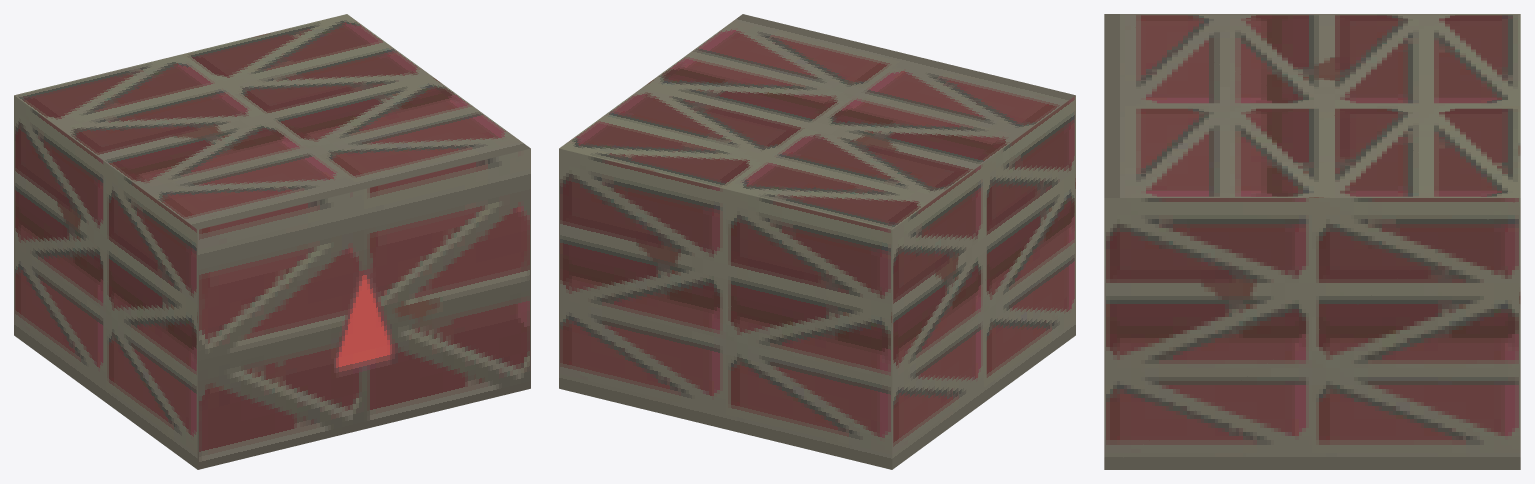
Rendered from Building_AncientExplosivesCrate.glb.
3 renders of one model, left to right at view 1: azimuth 30°, elevation 25°; view 2: azimuth 150°, elevation 25°; view 3: azimuth 270°, elevation 25°, orthographic. The views are drawn at different scales.
Visible parts, largest first — view 1: AncientExplosivesCrate; view 2: AncientExplosivesCrate; view 3: AncientExplosivesCrate.
Part boxes in pixels (left/top/right/bottom): AncientExplosivesCrate: left=14, top=14, right=530, bottom=469; AncientExplosivesCrate: left=559, top=14, right=1075, bottom=469; AncientExplosivesCrate: left=1104, top=14, right=1520, bottom=469.
Bounding box in the file's own units: 0.9 × 0.62 × 0.86.
Materials: 1 (1 with a texture image).
